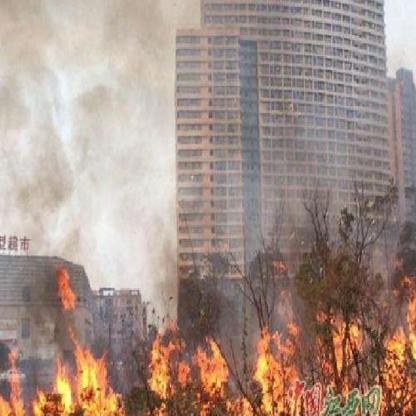fire: (1, 259, 416, 415)
smoke: (1, 0, 186, 254)
